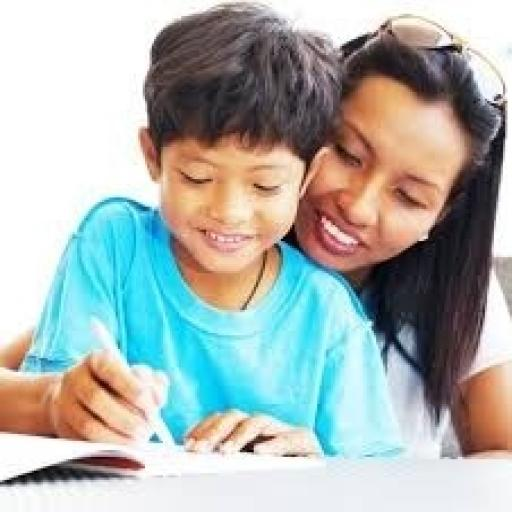hugging: (0, 0, 510, 464), (290, 11, 510, 464)
